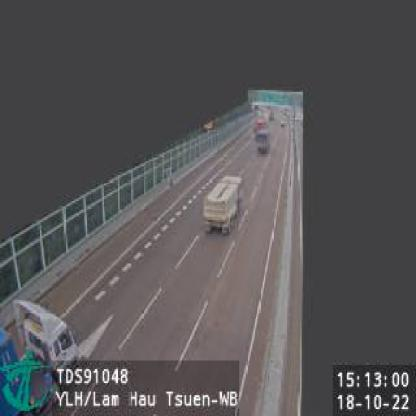Car: (0, 294, 85, 410)
Truck: (200, 171, 244, 232), (255, 127, 271, 153)
